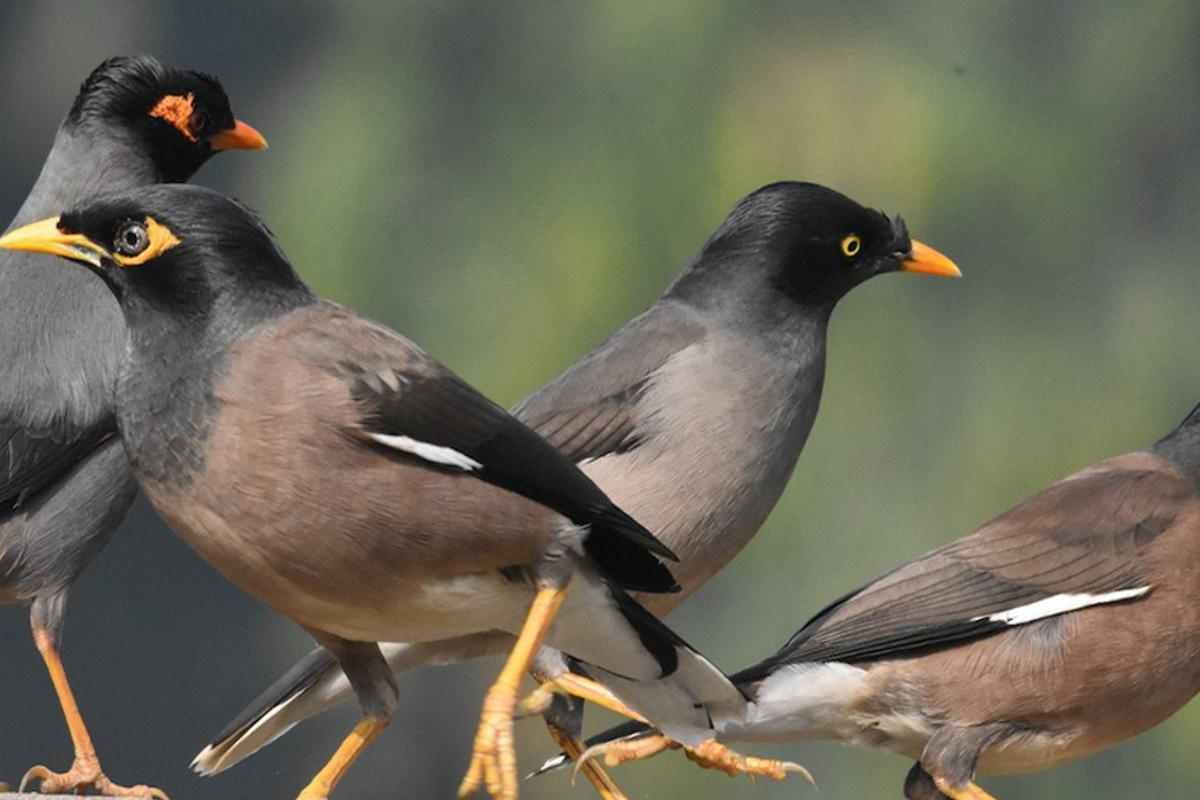myna: (15, 178, 687, 783), (511, 165, 1000, 540)
